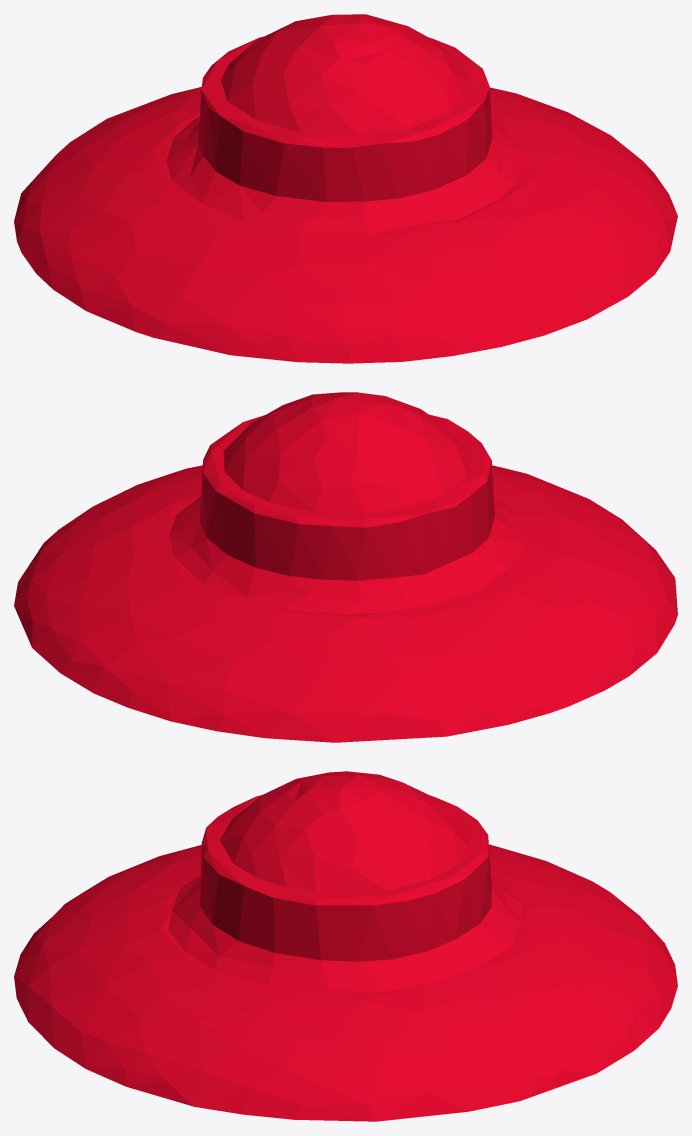
File: hit_ufo.dae
3 renders of one model, top to bottom at view 1: azimuth 30°, elevation 25°; view 2: azimuth 150°, elevation 25°; view 3: azimuth 270°, elevation 25°, orthographic.
Parts seen in each view (by area): view 1: Haneubu+uf; view 2: Haneubu+uf; view 3: Haneubu+uf.
Part boxes in pixels (x1,y1,x2,y2): Haneubu+uf: (14,14,677,363); Haneubu+uf: (14,392,677,742); Haneubu+uf: (14,771,677,1121).
Bounding box in the file's own units: 1.91 × 1.91 × 0.7402.
